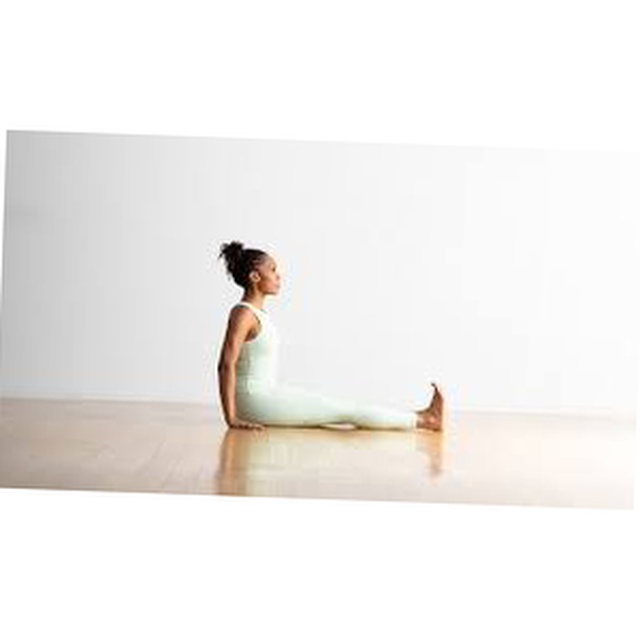Staff_Pose: (218, 239, 446, 435)
